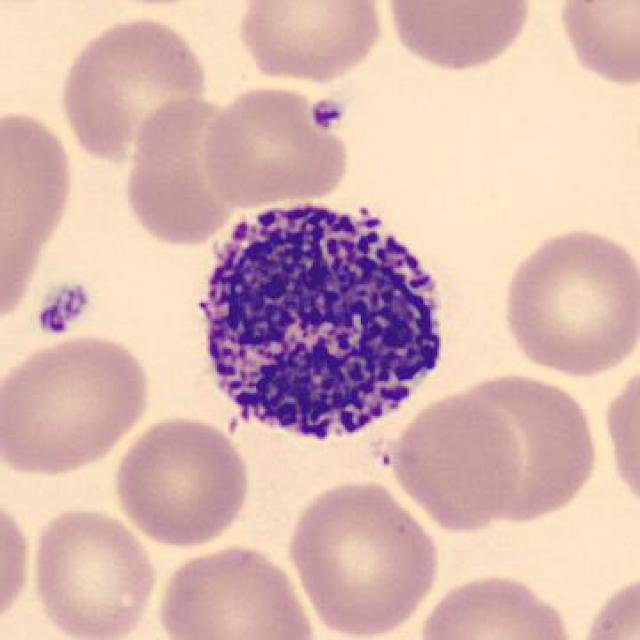Platelets: (32, 280, 89, 340), (306, 95, 350, 132), (34, 298, 69, 338)
RBC: (384, 367, 610, 564), (282, 476, 442, 638), (53, 11, 215, 168), (1, 330, 154, 480), (496, 222, 638, 381), (110, 412, 254, 552), (389, 390, 528, 532), (197, 83, 354, 208), (27, 502, 160, 638), (0, 102, 80, 323), (151, 539, 318, 640), (230, 2, 390, 86), (377, 0, 537, 76), (414, 569, 578, 640), (551, 2, 638, 90), (601, 354, 640, 532), (574, 571, 640, 640)
